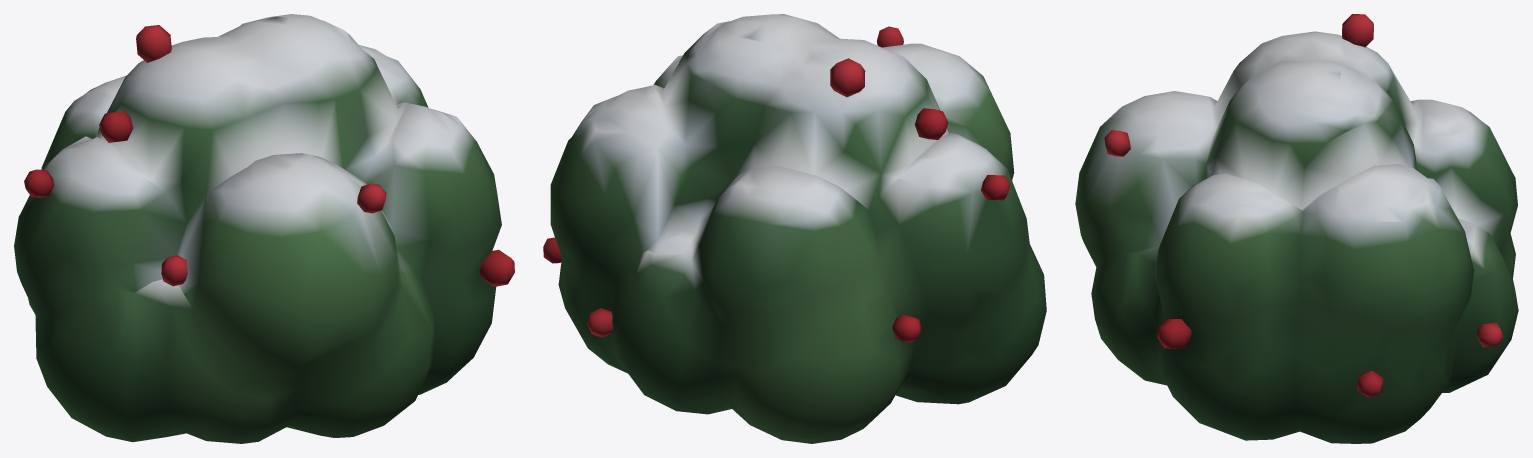
The model's file is bush-a-winter.glb.
3 renders of one model, left to right at view 1: azimuth 30°, elevation 25°; view 2: azimuth 150°, elevation 25°; view 3: azimuth 270°, elevation 25°, orthographic. The views are drawn at different scales.
Parts seen in each view (by area): view 1: bush-a-winter; view 2: bush-a-winter; view 3: bush-a-winter.
Part boxes in pixels (left/top/right/bottom): bush-a-winter: left=14, top=14, right=514, bottom=443; bush-a-winter: left=543, top=14, right=1046, bottom=443; bush-a-winter: left=1075, top=14, right=1518, bottom=443.
Size of the model in its own units: 1.05 by 0.8432 by 0.9662.
